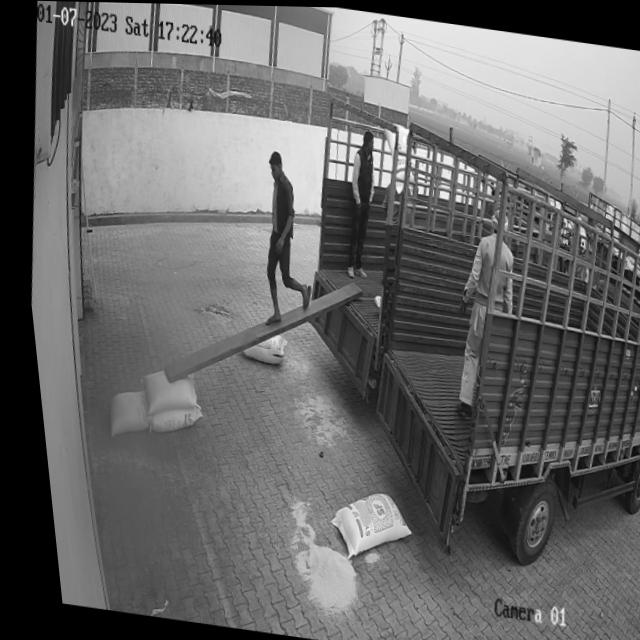sack: (313, 484, 407, 564), (128, 366, 192, 418), (95, 386, 143, 439), (139, 401, 195, 438), (230, 328, 283, 366)
